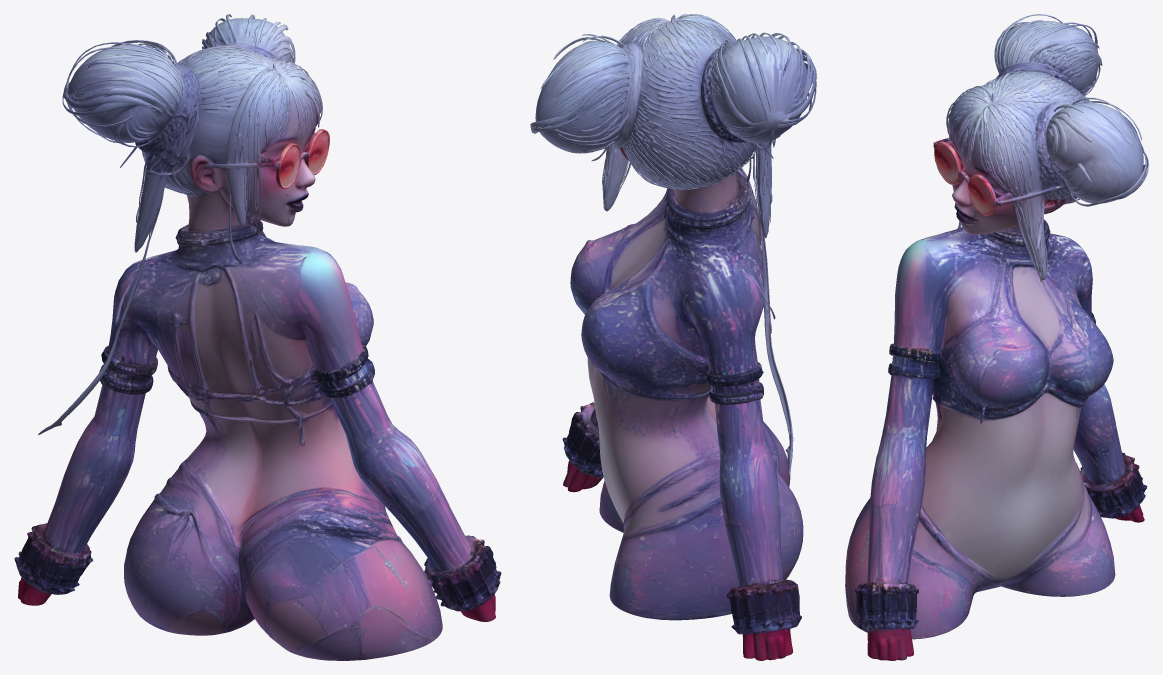
File: 01a1980b-0256-7cac-9963-c6e5e7137cde.glb
3 renders of one model, left to right at view 1: azimuth 30°, elevation 25°; view 2: azimuth 150°, elevation 25°; view 3: azimuth 270°, elevation 25°, orthographic. The views are drawn at different scales.
Parts seen in each view (by area): view 1: node_0; view 2: node_0; view 3: node_0.
Part boxes in pixels (left/top/right/bottom): node_0: left=14, top=14, right=501, bottom=660; node_0: left=530, top=14, right=816, bottom=660; node_0: left=845, top=14, right=1148, bottom=660.
Bounding box in the file's own units: 0.6189 × 0.9463 × 0.5071.
Materials: 1 (1 with a texture image).
